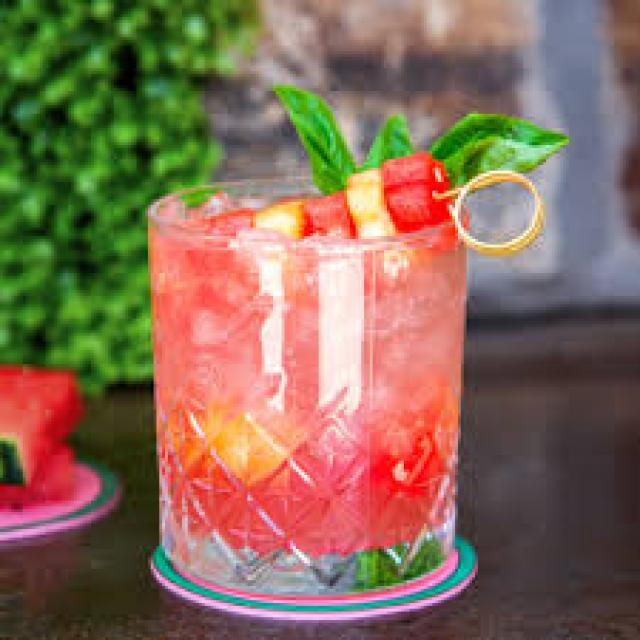Cans: (131, 165, 483, 614)
